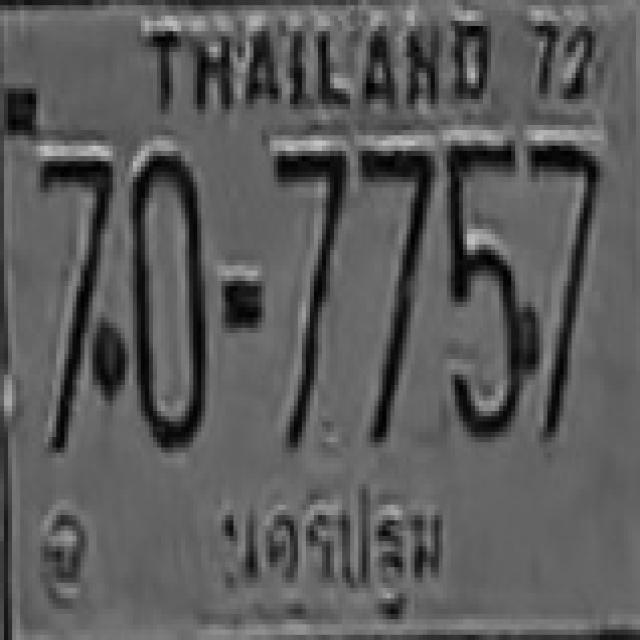0: (129, 148, 205, 450)
5: (444, 136, 523, 442)
7: (528, 136, 605, 443), (270, 146, 346, 449), (358, 146, 435, 443), (38, 151, 115, 446)
NakhonPathom: (203, 478, 456, 610)
